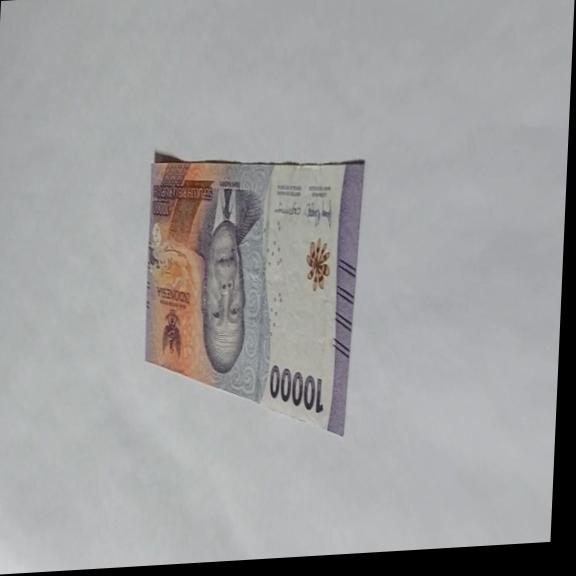Kertas: (136, 141, 365, 451), (267, 360, 326, 418)
